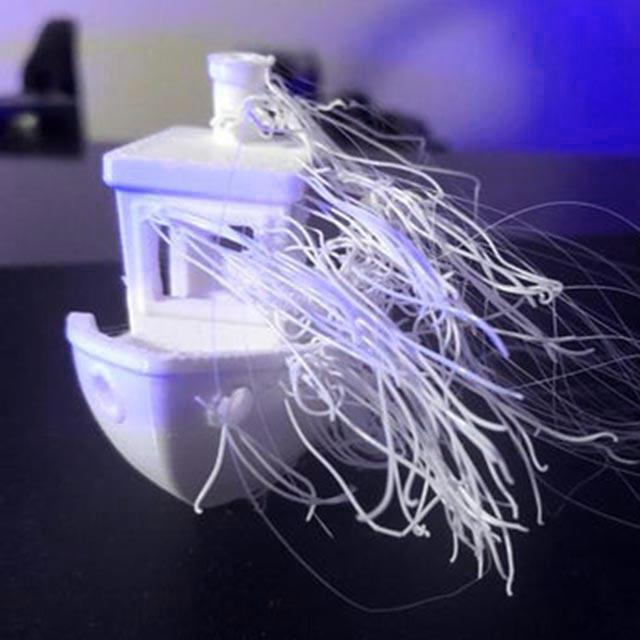Spaghetti: (146, 67, 639, 613)
